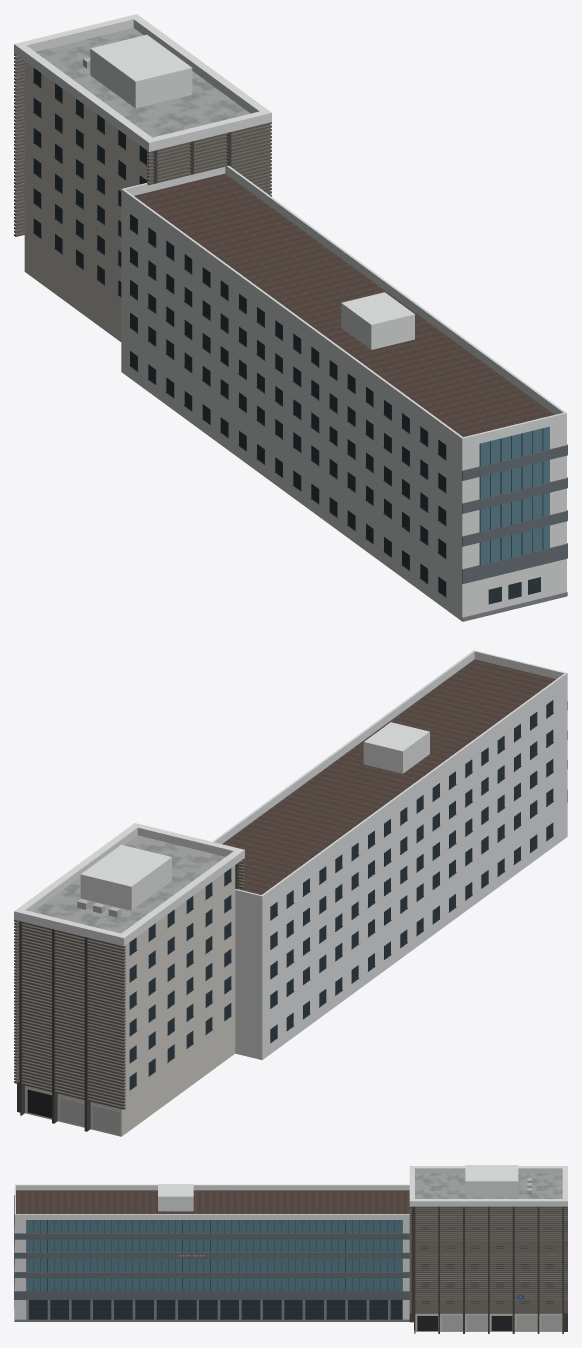
3 views of the same model, one above another, from view 1: azimuth 30°, elevation 25°; view 2: azimuth 150°, elevation 25°; view 3: azimuth 270°, elevation 25° (orthographic). The views are drawn at different scales.
Parts seen in each view (by area): view 1: TA23; view 2: TA23; view 3: TA23.
Boxes of the visible parts, bbox=[...] form: TA23: bbox=[14, 14, 567, 621]; TA23: bbox=[14, 650, 567, 1136]; TA23: bbox=[14, 1165, 567, 1333].
Size of what is drawn, in the model's own units: 16.95 by 26.8 by 93.8.
Materials: 17 (4 with a texture image).
